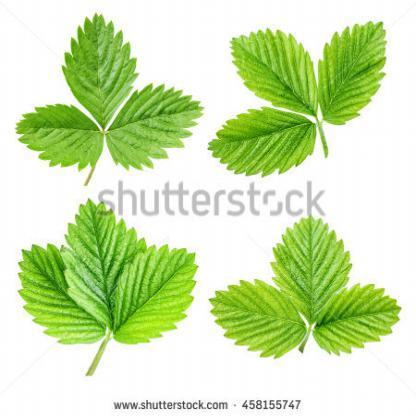Strawberry leaf: (65, 195, 150, 328), (262, 212, 358, 322), (224, 22, 328, 116), (104, 90, 209, 174), (111, 244, 201, 342), (58, 13, 138, 123), (18, 240, 106, 338), (204, 110, 318, 180), (208, 274, 306, 355), (317, 18, 387, 126), (312, 274, 406, 354), (12, 100, 104, 174)
